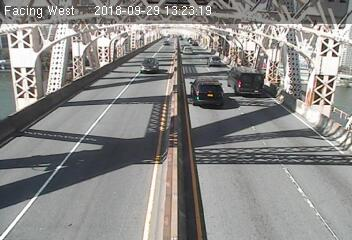car: (226, 65, 270, 97), (189, 77, 225, 111), (137, 56, 163, 76), (206, 54, 226, 69), (181, 45, 195, 56)
